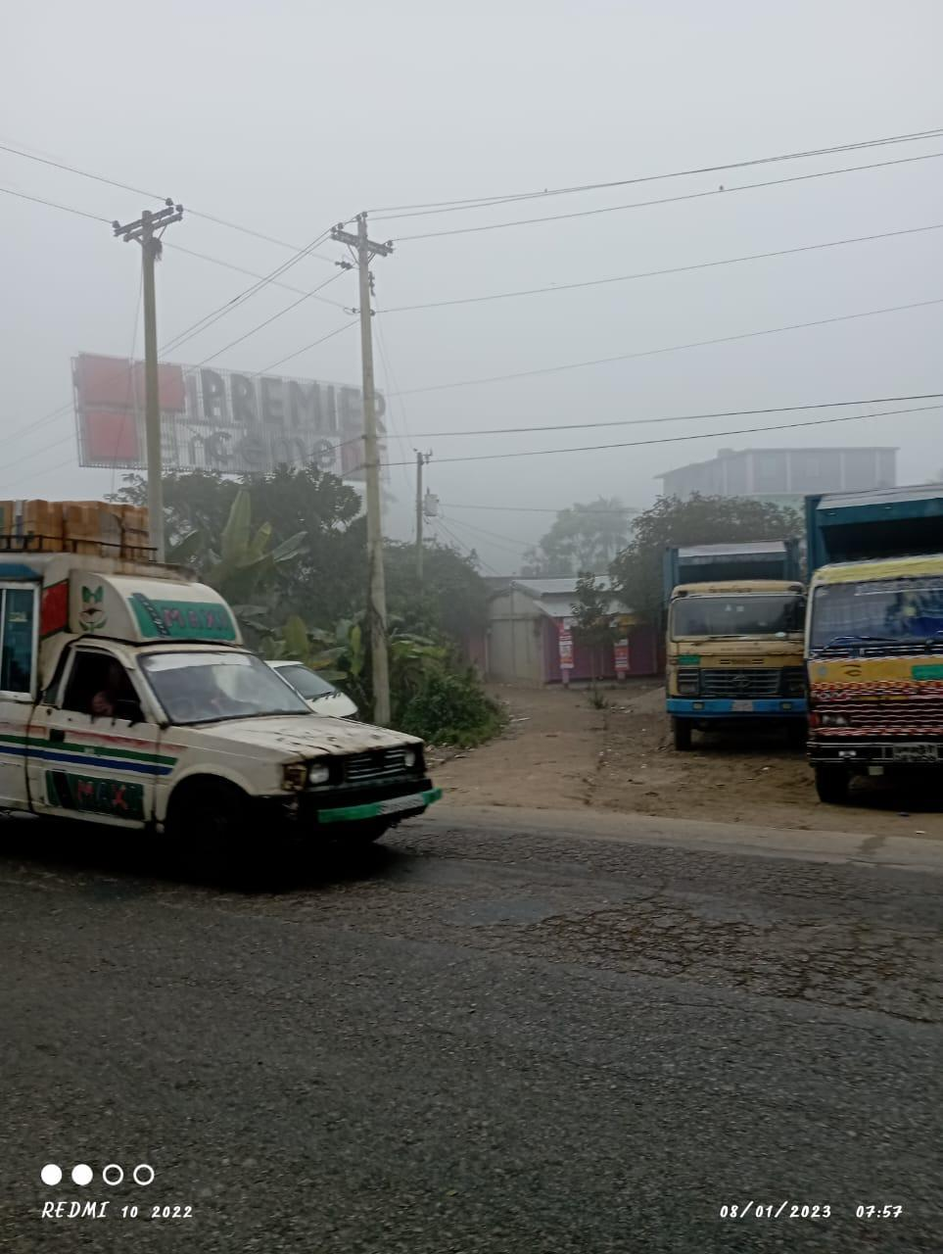Car: (6, 491, 441, 885)
Truck: (791, 467, 943, 823), (656, 533, 808, 748)
